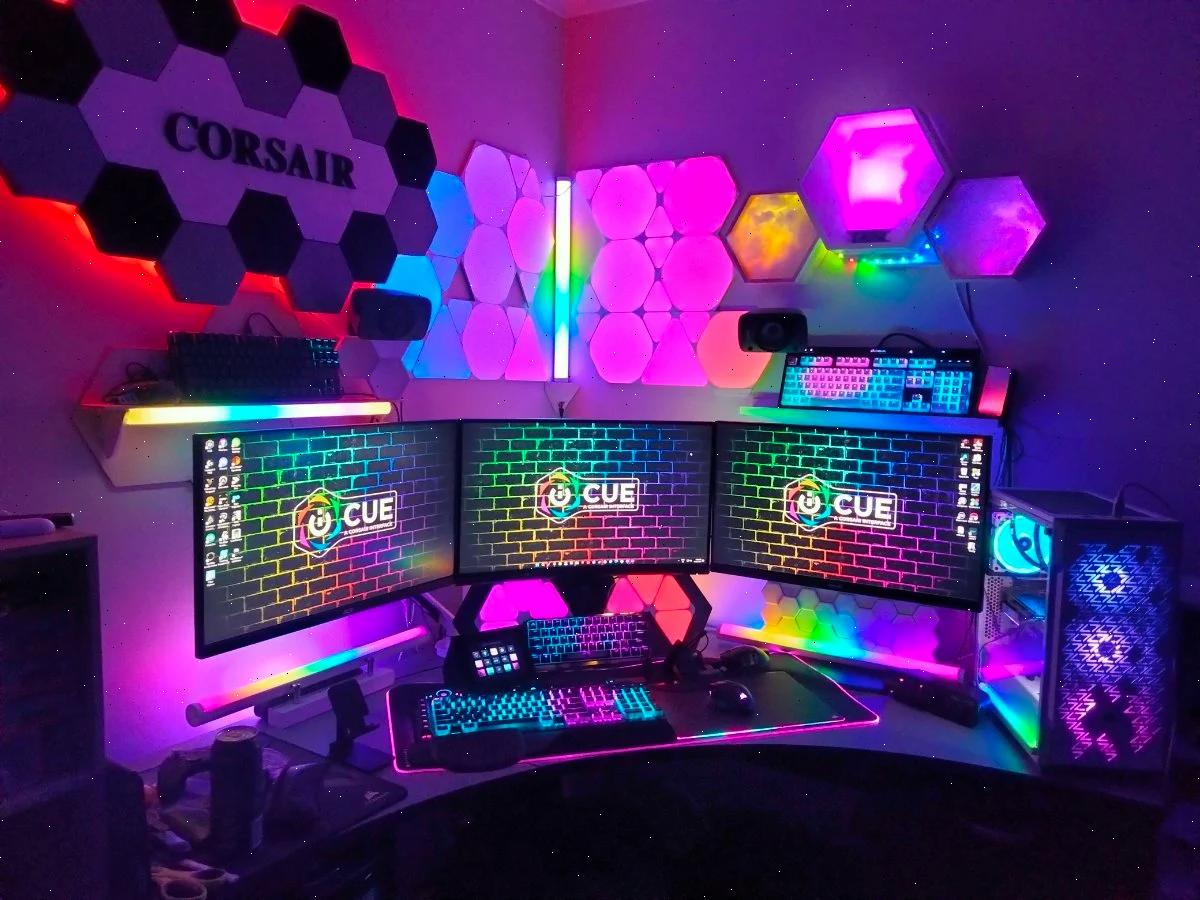keyboard: (403, 671, 675, 771), (775, 339, 986, 426), (162, 324, 351, 411), (517, 611, 656, 674)
mic: (203, 724, 271, 863)
monitor: (189, 411, 461, 668), (705, 416, 1005, 601), (452, 399, 715, 589)
mouse: (703, 671, 765, 720), (718, 640, 773, 674)
speaker: (343, 280, 437, 348), (734, 297, 817, 365)
